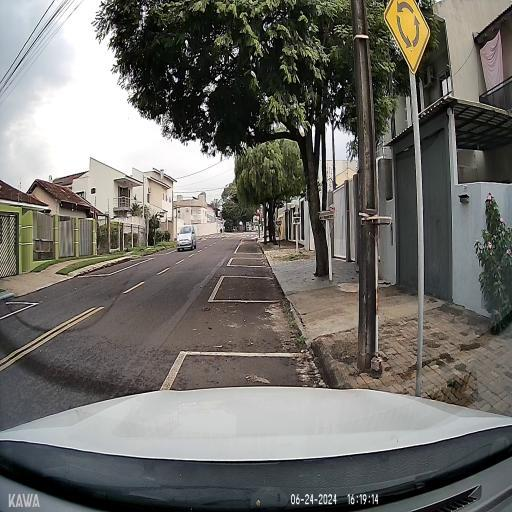A-12: (383, 0, 430, 74)
